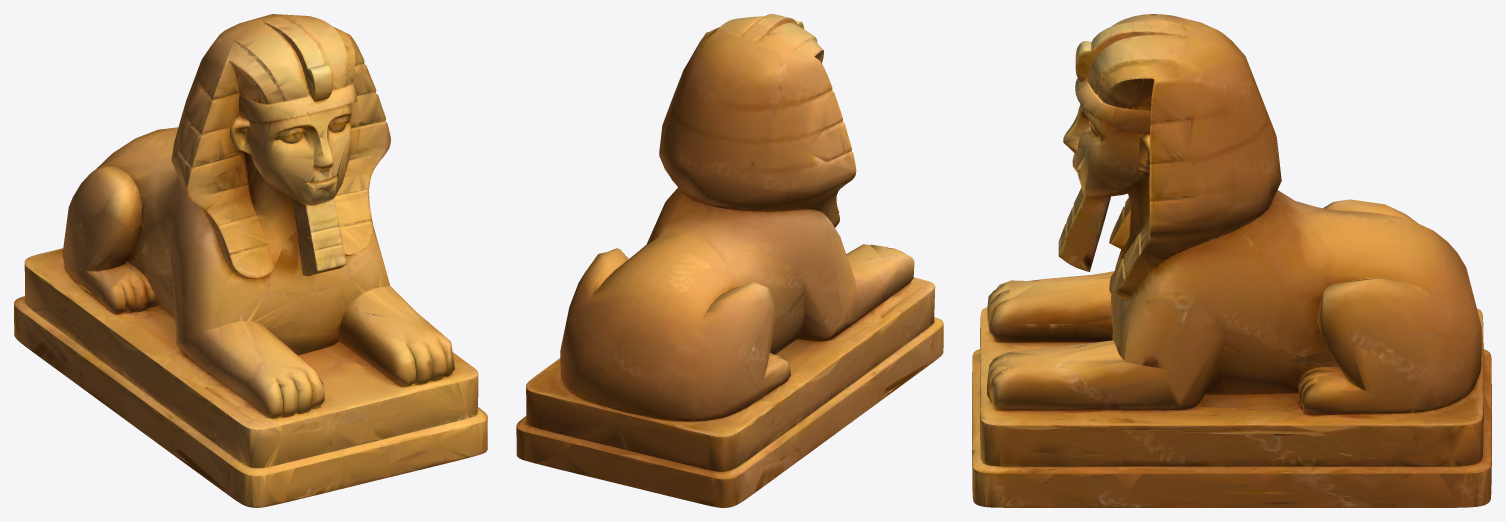
File: sphinx_pbr.glb
The picture shows the model from 3 angles, left to right: view 1: azimuth 30°, elevation 25°; view 2: azimuth 150°, elevation 25°; view 3: azimuth 270°, elevation 25°; orthographic projection. The views are drawn at different scales.
Parts seen in each view (by area): view 1: model.016; view 2: model.016; view 3: model.016.
Boxes of the visible parts, bbox=[...] form: model.016: bbox=[14, 14, 487, 507]; model.016: bbox=[516, 14, 943, 507]; model.016: bbox=[972, 14, 1491, 507].
Size of the model in its own units: 1.05 by 1.61 by 1.81.
1 material, 1 textured.
